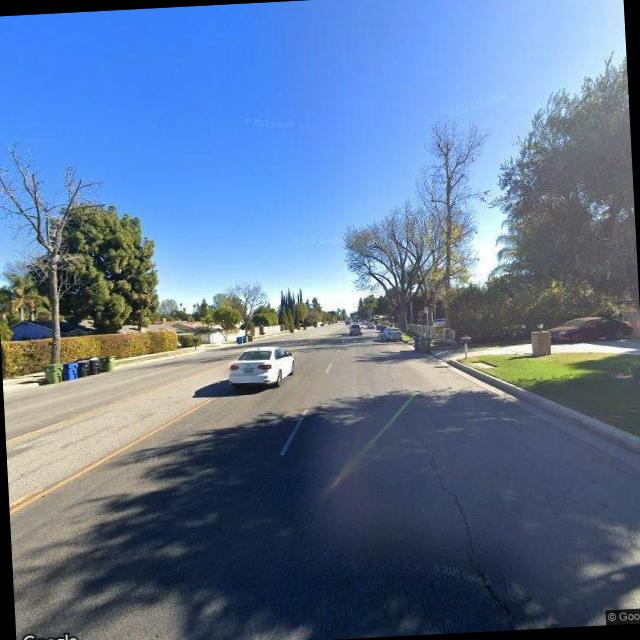pothole: (387, 382, 532, 636)
